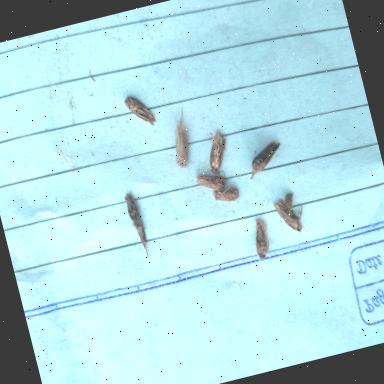pbw: (122, 192, 154, 263), (164, 109, 198, 175), (198, 126, 238, 182), (272, 188, 312, 242), (242, 140, 288, 182), (122, 89, 159, 132), (247, 217, 278, 264), (196, 165, 230, 195), (208, 180, 240, 206)
